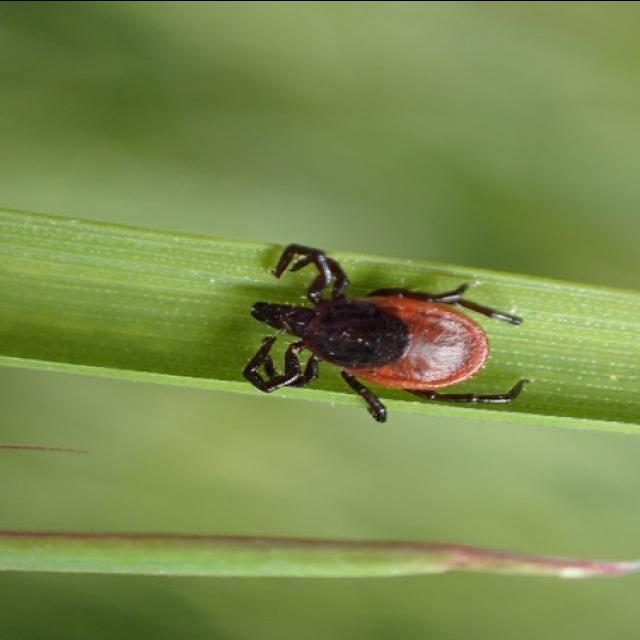Ixodes Ricinus-F: (241, 243, 529, 422)
